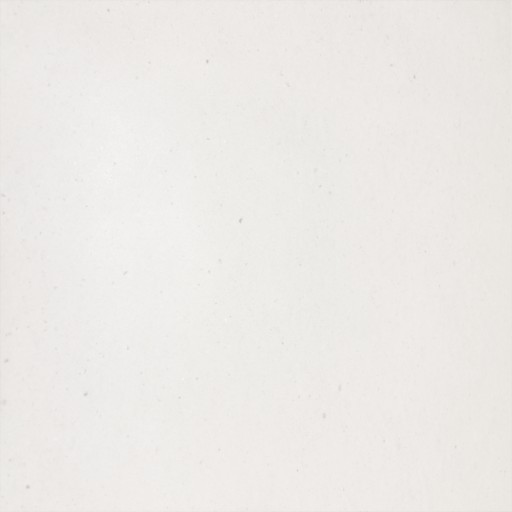lego: (212, 228, 301, 286)
